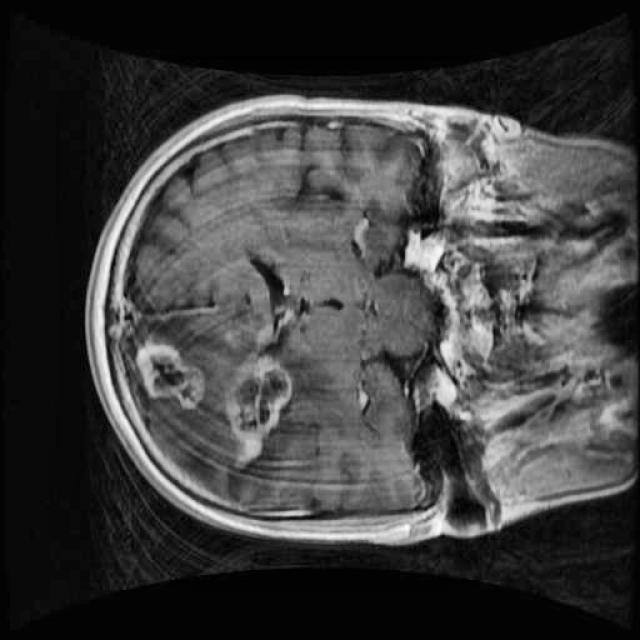Tumor: (124, 326, 326, 485)
